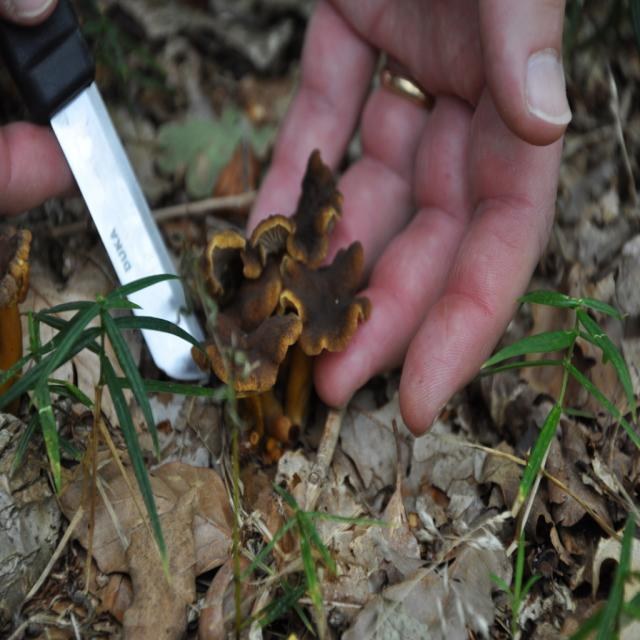Knife: (0, 0, 175, 284), (130, 281, 202, 340), (144, 331, 204, 380)
